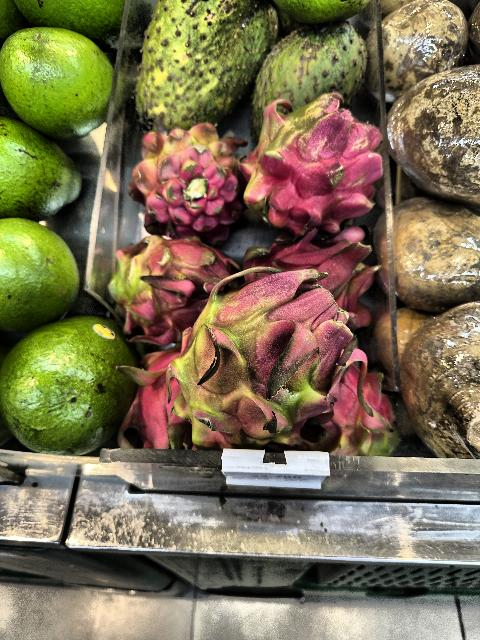buah-naga-belum-matang: (174, 270, 332, 440), (249, 88, 371, 224), (119, 224, 235, 338), (134, 126, 244, 236), (325, 354, 405, 470)
buah-naga-matang: (246, 212, 382, 332), (126, 345, 196, 461)
